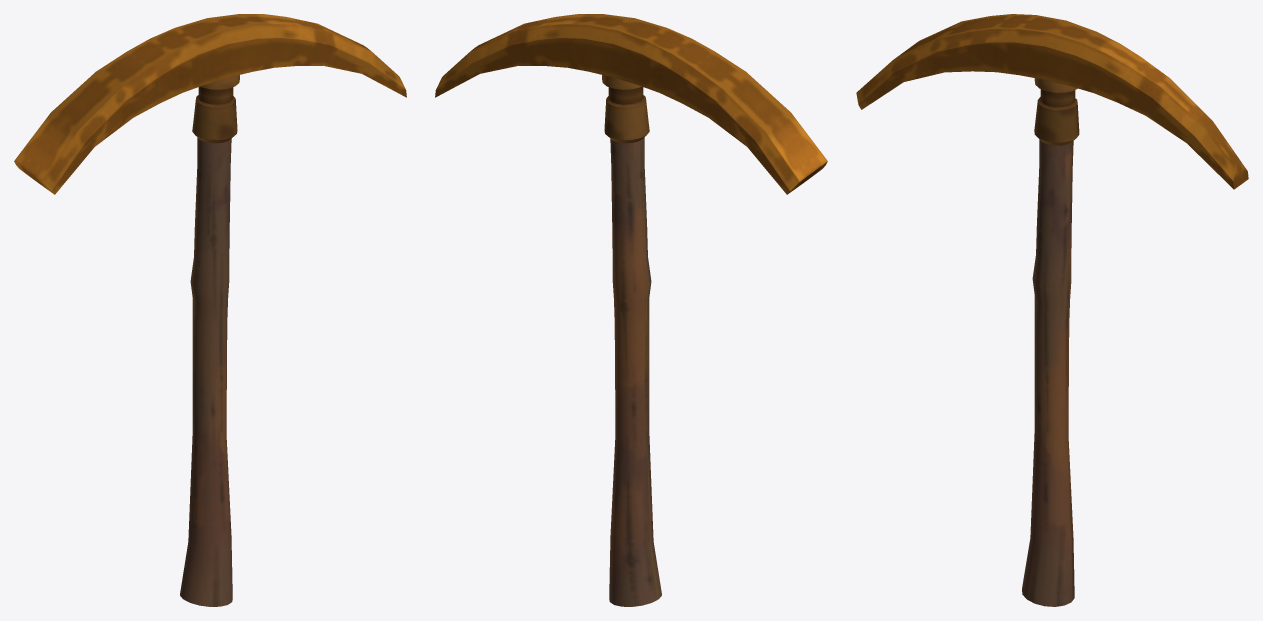
File: Pickaxe_Bronze.gltf
3 views of the same model, side by side, from view 1: azimuth 30°, elevation 25°; view 2: azimuth 150°, elevation 25°; view 3: azimuth 330°, elevation 25° (orthographic).
Visible parts, largest first — view 1: Pickaxe_Bronze; view 2: Pickaxe_Bronze; view 3: Pickaxe_Bronze.
Part boxes in pixels (x1,y1,x2,y2): Pickaxe_Bronze: [14, 14, 406, 606]; Pickaxe_Bronze: [435, 14, 827, 606]; Pickaxe_Bronze: [856, 14, 1248, 606].
Bounding box in the file's own units: 0.8129 × 1.2 × 0.1357.
Materials: 1 (1 with a texture image).
